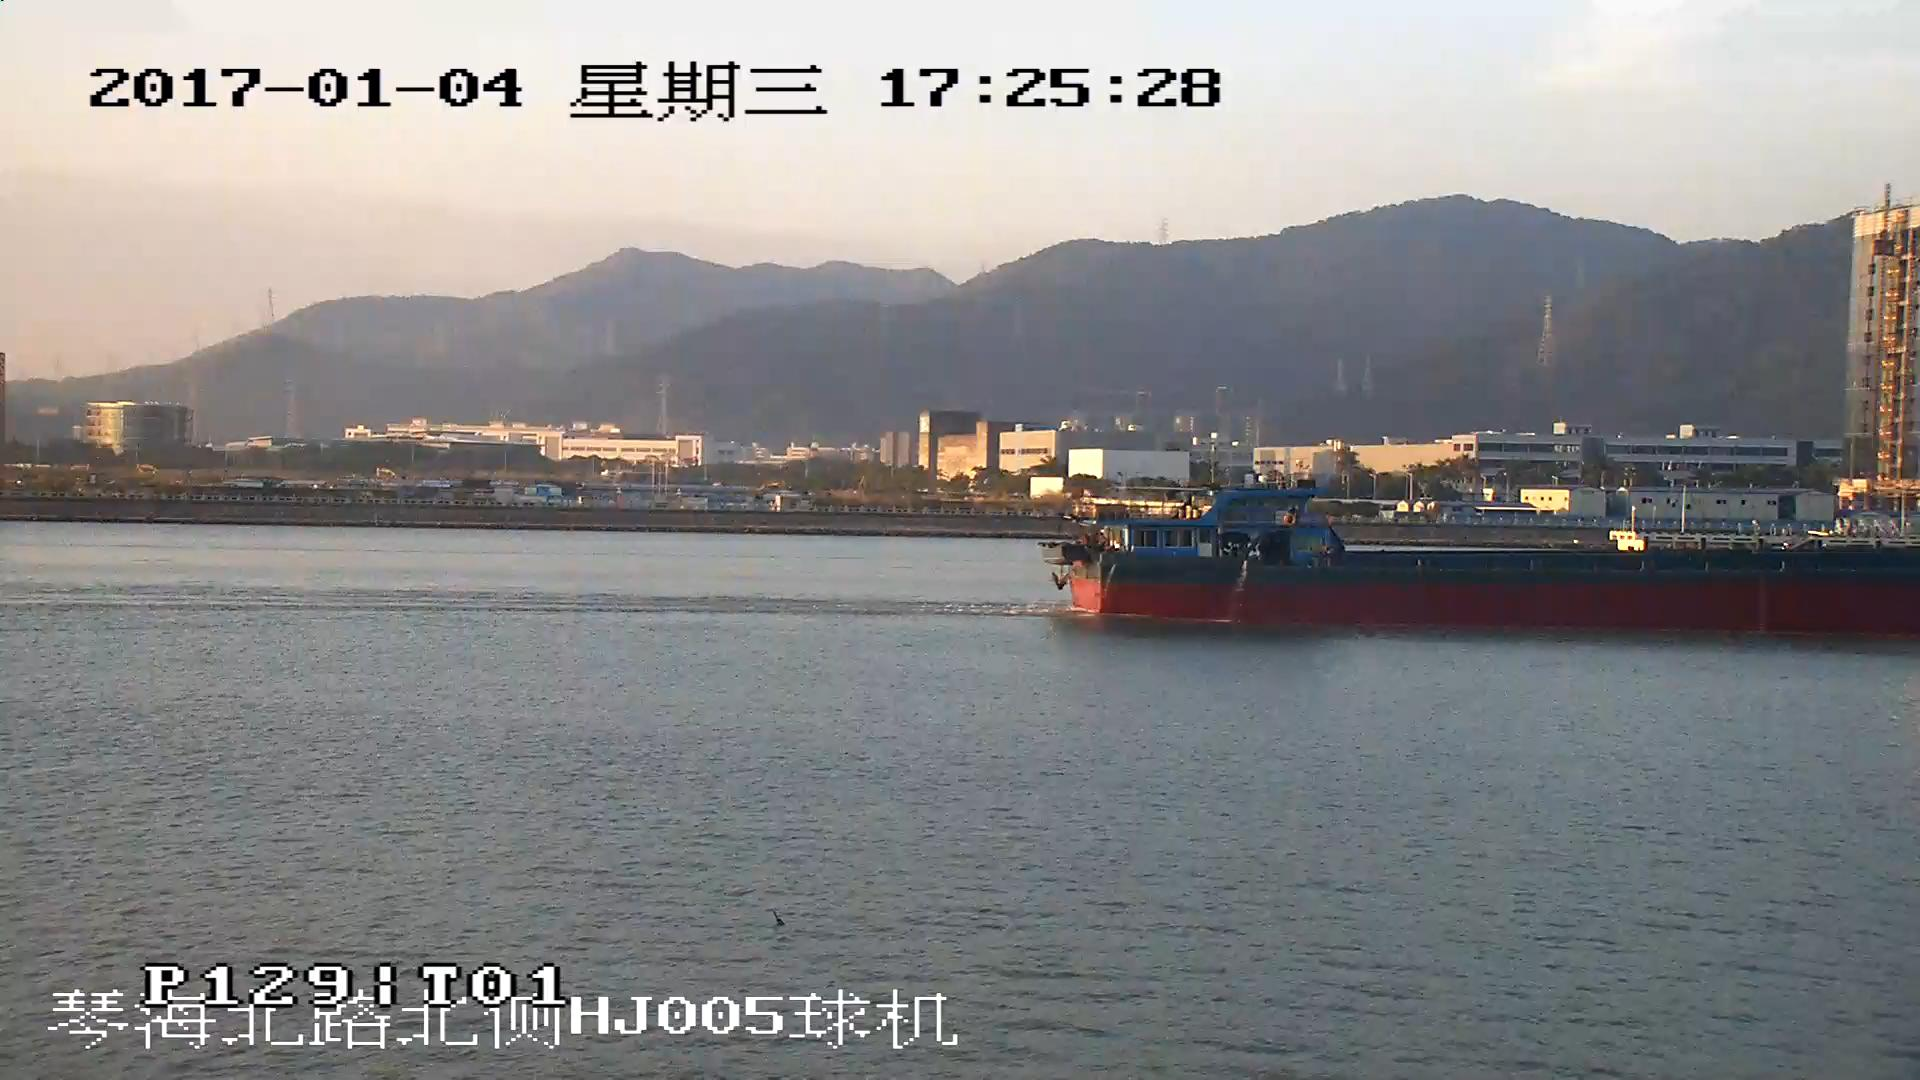general cargo ship: (1042, 492, 1920, 641)
